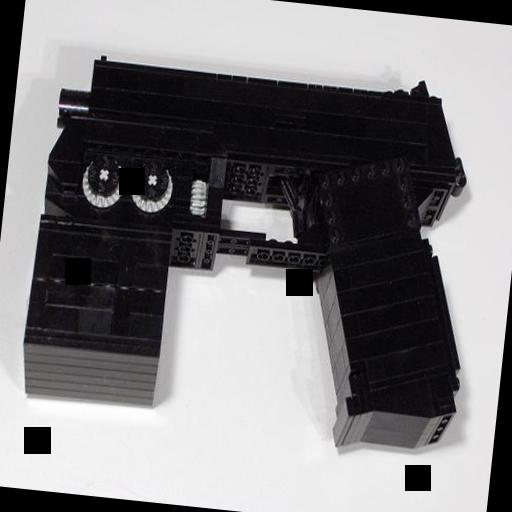Handgun: (13, 40, 503, 460)
